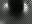person: (23, 4, 29, 16), (4, 4, 10, 15)
